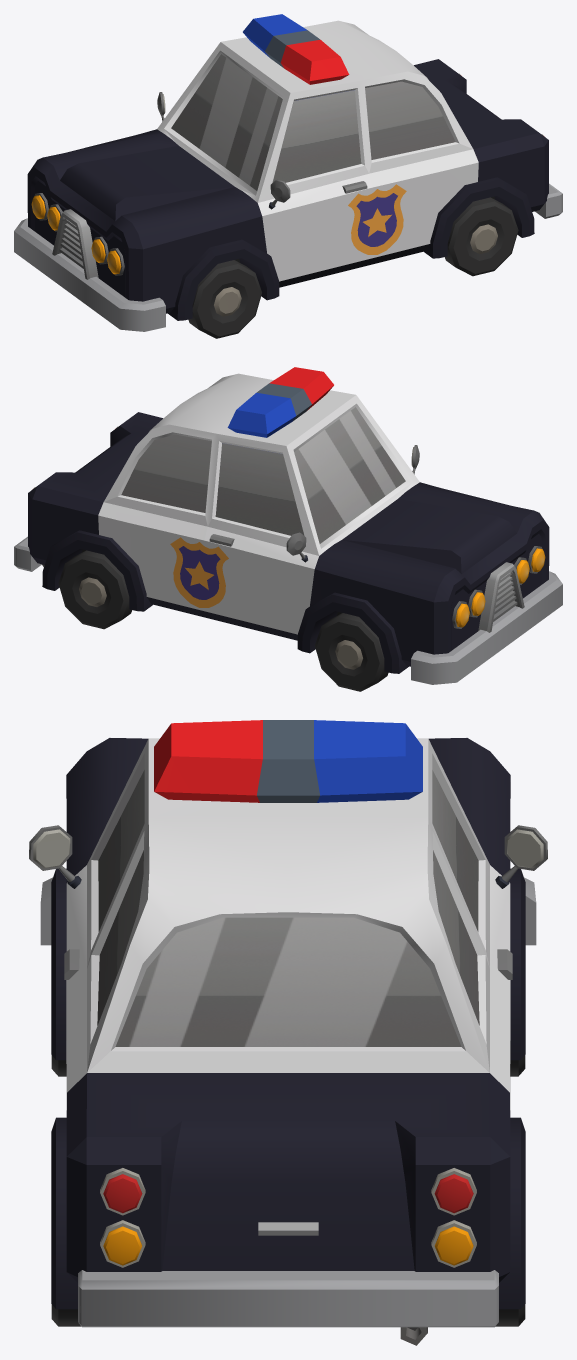
The model's file is Car_Police_4_A_1.gltf.
3 renders of one model, top to bottom at view 1: azimuth 30°, elevation 25°; view 2: azimuth 150°, elevation 25°; view 3: azimuth 270°, elevation 25°, orthographic. The views are drawn at different scales.
Parts seen in each view (by area): view 1: Car_Police_4_A_1, RL, FL; view 2: Car_Police_4_A_1, RR, FR; view 3: Car_Police_4_A_1.
Boxes of the visible parts, left/top/right/bottom form: Car_Police_4_A_1: left=14, top=14, right=562, bottom=331; RL: left=444, top=197, right=518, bottom=276; FL: left=188, top=260, right=261, bottom=338; Car_Police_4_A_1: left=14, top=367, right=562, bottom=684; RR: left=58, top=550, right=132, bottom=629; FR: left=315, top=613, right=388, bottom=691; Car_Police_4_A_1: left=29, top=720, right=547, bottom=1345.
Size of the model in its own units: 3.36 by 1.64 by 1.7.
Materials: 3 (3 with a texture image).
